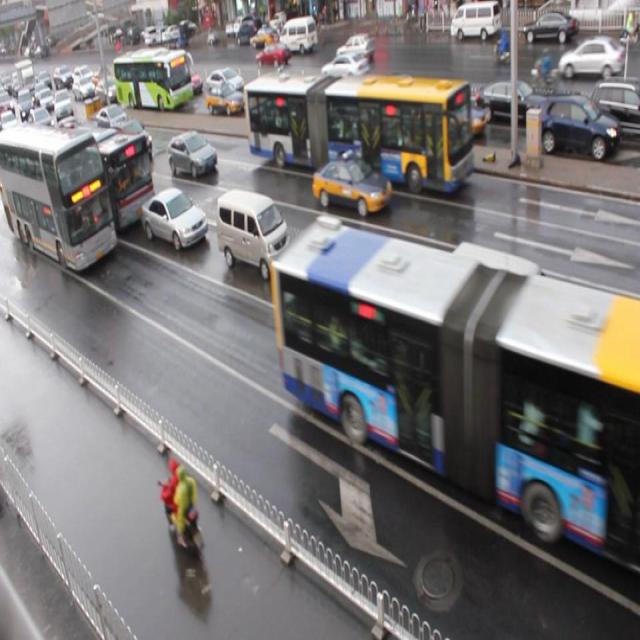car: (300, 229, 403, 321), (533, 93, 618, 161), (311, 156, 392, 217), (140, 188, 208, 252), (477, 80, 547, 130), (418, 90, 484, 140), (608, 330, 640, 432), (586, 81, 640, 141), (366, 72, 424, 114), (169, 134, 218, 180), (301, 84, 345, 130), (112, 120, 154, 163), (22, 160, 62, 204), (256, 75, 298, 115), (207, 82, 244, 116), (206, 69, 245, 98), (96, 104, 129, 134)
truck: (438, 240, 568, 389), (215, 188, 290, 284)
van: (271, 217, 640, 574), (243, 70, 472, 198), (1, 123, 118, 273), (38, 127, 154, 235), (114, 48, 193, 108)
